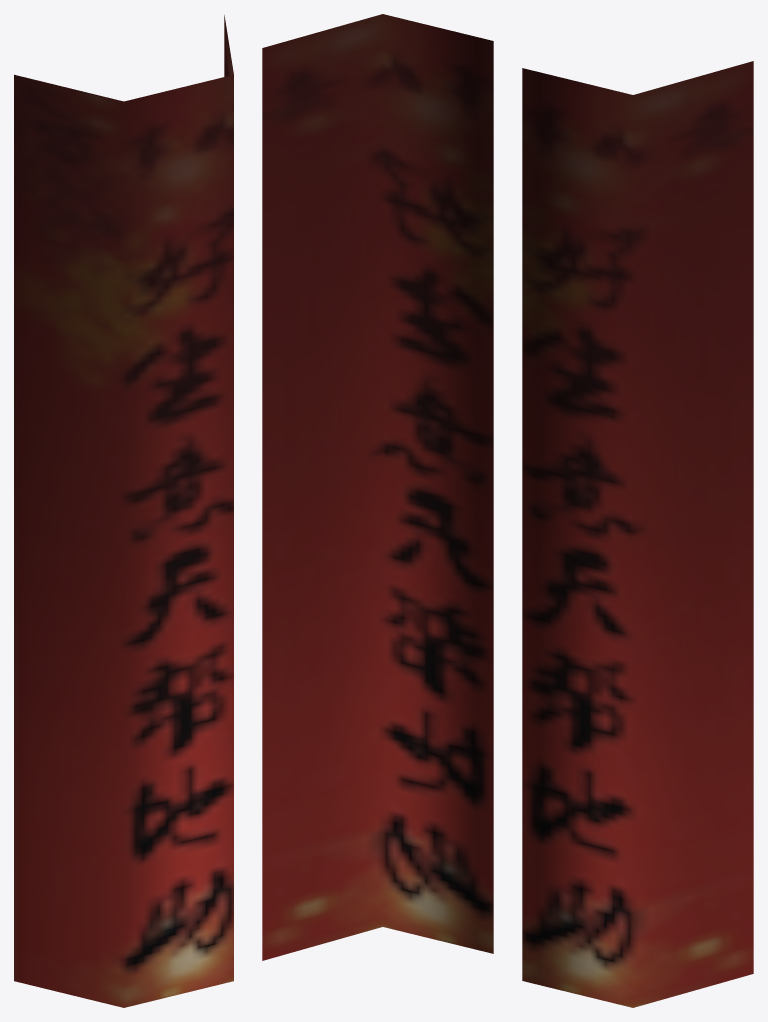
File: zc_suzhou_duilian02.FBX
3 views of the same model, side by side, from view 1: azimuth 30°, elevation 25°; view 2: azimuth 150°, elevation 25°; view 3: azimuth 330°, elevation 25° (orthographic).
Parts seen in each view (by area): view 1: zc_suzhou_duilian02; view 2: zc_suzhou_duilian02; view 3: zc_suzhou_duilian02.
Part boxes in pixels (x1,y1,x2,y2): zc_suzhou_duilian02: [14, 15, 233, 1007]; zc_suzhou_duilian02: [262, 14, 493, 960]; zc_suzhou_duilian02: [522, 61, 753, 1007].
Bounding box in the file's own units: 56.66 × 223 × 28.81.
